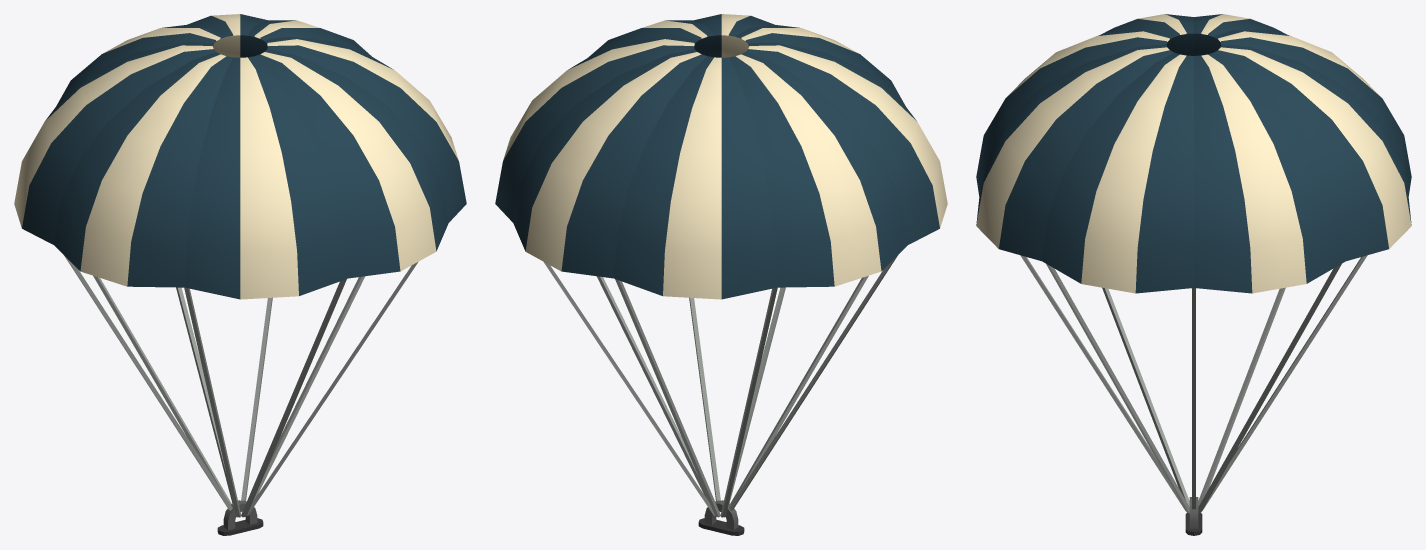
Rendered from parachute_2.fbx.
The picture shows the model from 3 angles, left to right: view 1: azimuth 30°, elevation 25°; view 2: azimuth 150°, elevation 25°; view 3: azimuth 270°, elevation 25°; orthographic projection.
Visible parts, largest first — view 1: parachute_2; view 2: parachute_2; view 3: parachute_2.
Boxes of the visible parts, <box> form: parachute_2: <box>14,14,466,535</box>; parachute_2: <box>495,14,947,535</box>; parachute_2: <box>976,14,1411,535</box>.
Bounding box in the file's own units: 1.03 × 1.03 × 1.26.
